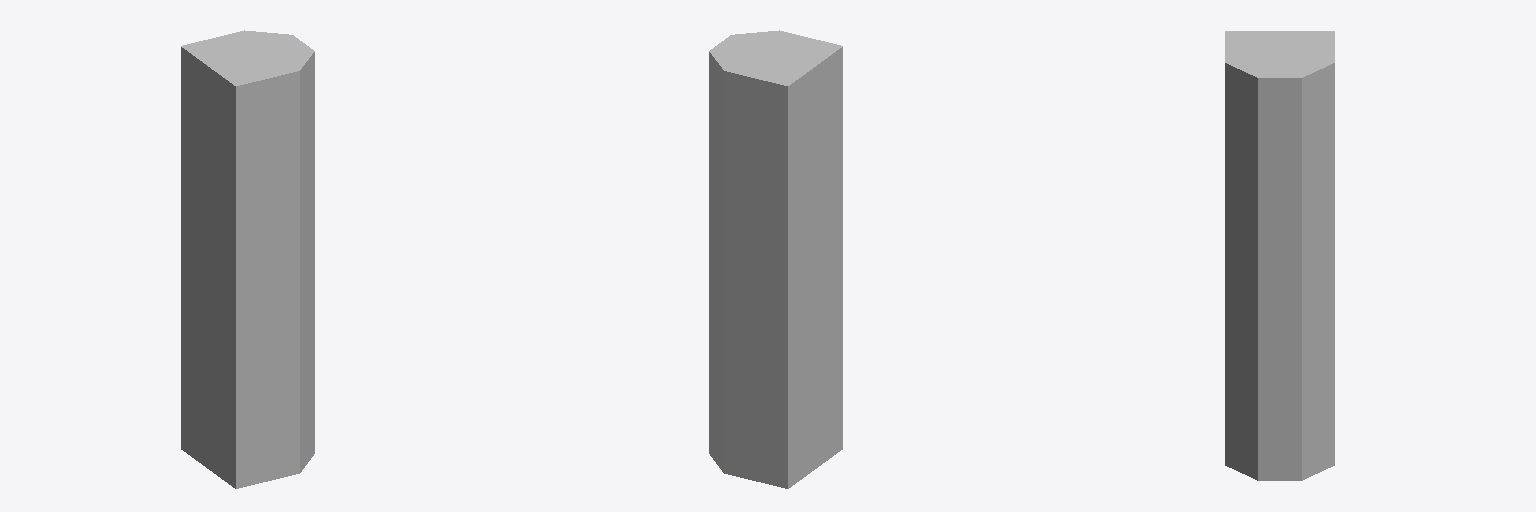
File: wall_endcap.obj
The picture shows the model from 3 angles: view 1: azimuth 30°, elevation 25°; view 2: azimuth 150°, elevation 25°; view 3: azimuth 270°, elevation 25°; orthographic projection.
Visible parts, largest first — view 1: Cube; view 2: Cube; view 3: Cube.
Boxes of the visible parts, box(x1,y1,x2,y2) form: Cube: box(181, 30, 314, 488); Cube: box(709, 30, 842, 488); Cube: box(1225, 31, 1334, 480).
Bounding box in the file's own units: 1 × 4.02 × 1.